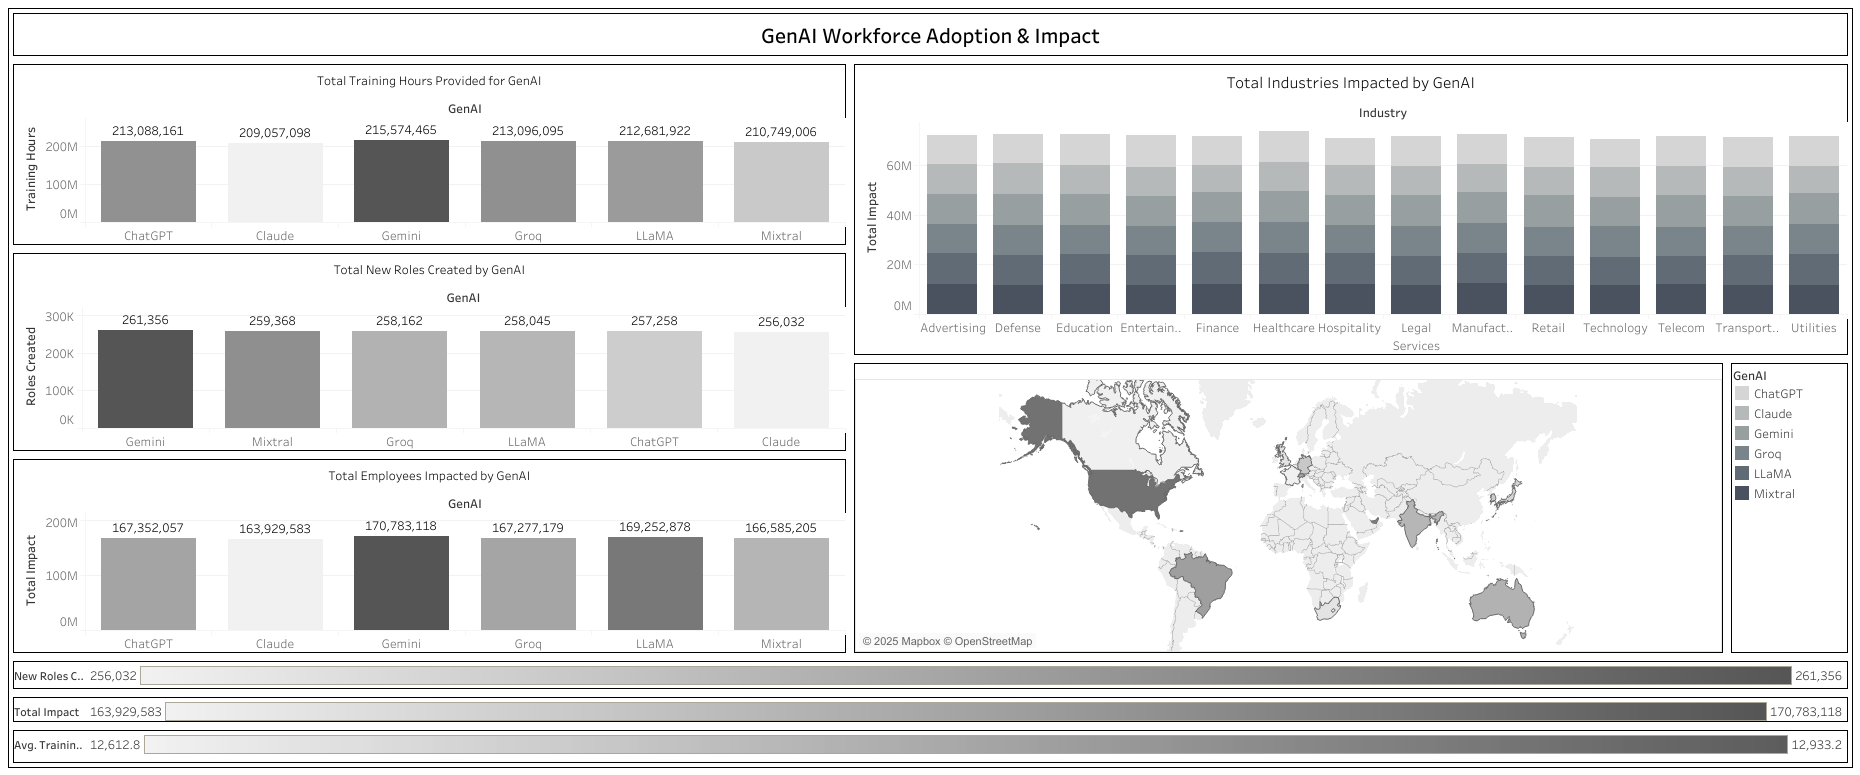

The page's visual inventory and layout, read from the dashboard file:
{"tool":"tableau","page":{"name":"Dashboard 1","canvas":[1000,1000],"units":"permille","ordinal":0},"visuals":[{"type":"text","box":[6.2,11.2,987.5,66.3]},{"type":"worksheet","title":"Sheet 7 (2)","mark":"Automatic","rows":["training_hours_provided"],"cols":["genai_tool"],"box":[6.2,77.5,450.5,243.1]},{"type":"worksheet","title":"Sheet 11","mark":"Automatic","rows":["total_employees_impacted"],"cols":["industry"],"box":[456.8,77.5,537,385.3]},{"type":"worksheet","title":"Sheet 7 (3)","mark":"Automatic","rows":["new_roles_created"],"cols":["genai_tool"],"box":[6.2,320.6,450.5,265.9]},{"type":"worksheet","title":"Sheet 10","mark":"Multipolygon","box":[456.8,462.9,469.9,383.6]},{"type":"legend","title":"Sheet 11","param":"[federated.1btohc807ewaky18n960106fuem2].[none:genai_tool:nk]","box":[926.6,462.9,67.1,383.6]},{"type":"worksheet","title":"Sheet 7","mark":"Automatic","rows":["total_employees_impacted"],"cols":["genai_tool"],"box":[6.2,586.5,450.5,259.9]},{"type":"legend","title":"Sheet 7 (3)","param":"[federated.1btohc807ewaky18n960106fuem2].[sum:new_roles_created:qk]","box":[6.2,846.4,987.5,47.4]},{"type":"legend","title":"Sheet 7","param":"[federated.1btohc807ewaky18n960106fuem2].[sum:total_employees_impacted:qk]","box":[6.2,893.9,987.5,42.5]},{"type":"legend","title":"Sheet 10","param":"[federated.1btohc807ewaky18n960106fuem2].[avg:training_hours_provided:qk]","box":[6.2,936.3,987.5,52.4]}]}

Visuals, with their boxes on the dashboard's canvas, which has no fixed pixel size, in thousandths of its width and height (x1, y1, x2, y2). These are canvas units, not pixel positions in the 1860x775 screenshot, which may show the page scaled, cropped or inside an application window:
text: (x1=6, y1=11, x2=994, y2=78)
"Sheet 7 (2)" worksheet: (x1=6, y1=78, x2=457, y2=321)
"Sheet 11" worksheet: (x1=457, y1=78, x2=994, y2=463)
"Sheet 7 (3)" worksheet: (x1=6, y1=321, x2=457, y2=586)
"Sheet 10" worksheet (Multipolygon marks): (x1=457, y1=463, x2=927, y2=846)
"Sheet 11" legend: (x1=927, y1=463, x2=994, y2=846)
"Sheet 7" worksheet: (x1=6, y1=586, x2=457, y2=846)
"Sheet 7 (3)" legend: (x1=6, y1=846, x2=994, y2=894)
"Sheet 7" legend: (x1=6, y1=894, x2=994, y2=936)
"Sheet 10" legend: (x1=6, y1=936, x2=994, y2=989)
